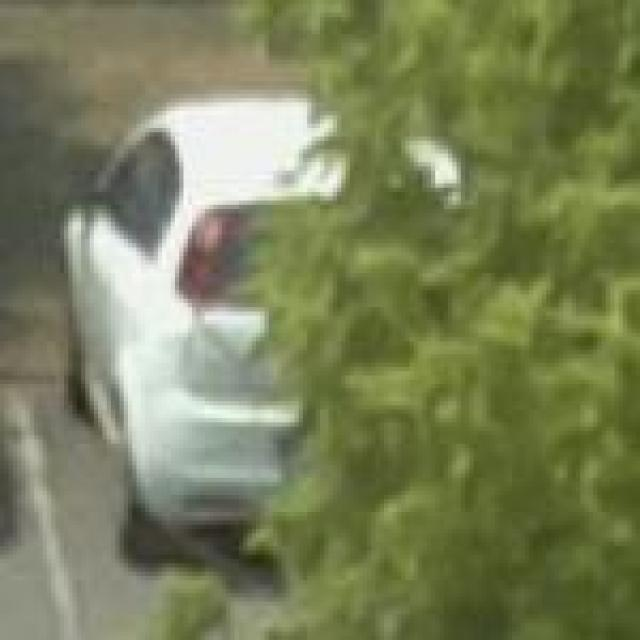cars-sUYr: (61, 91, 524, 583)
